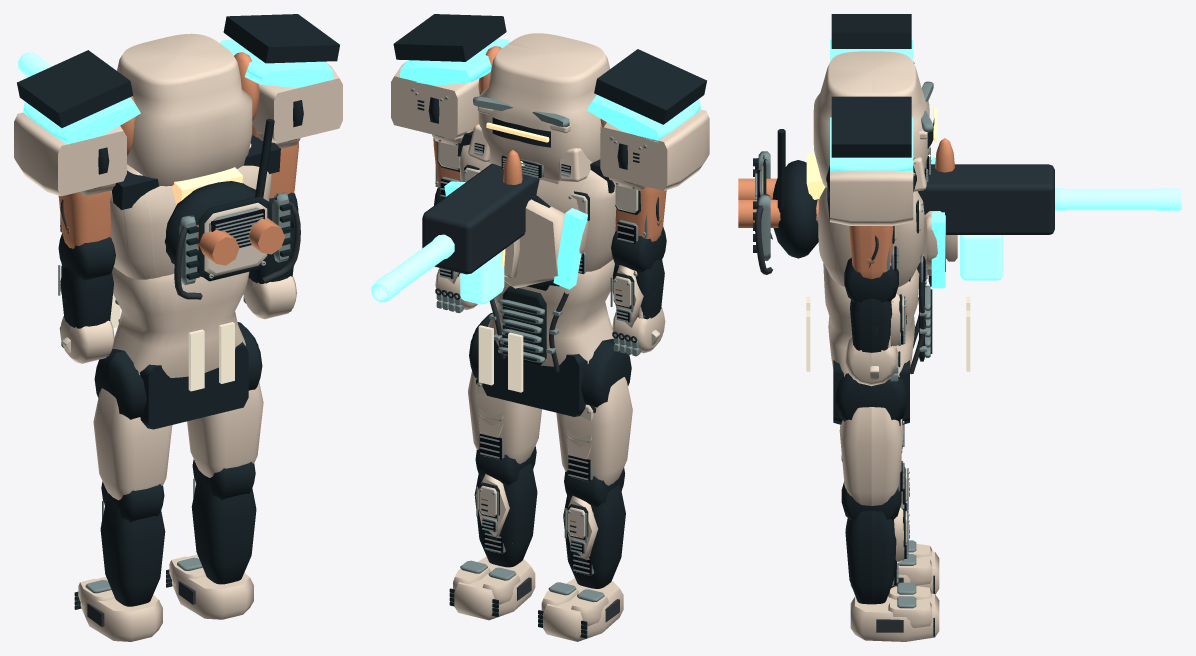
File: claude.glb
The picture shows the model from 3 angles, left to right: view 1: azimuth 30°, elevation 25°; view 2: azimuth 150°, elevation 25°; view 3: azimuth 270°, elevation 25°; orthographic projection. The views are drawn at different scales.
Visible parts, largest first — view 1: LOD3_Batch7, LOD3_Batch51, LOD1_Batch4, LOD3_Batch24, LOD3_Batch59, LOD7_Batch22, LOD3_Batch46, LOD3_Batch55, LOD3_Batch64, LOD3_Batch71, LOD7_Batch37, LOD3_Batch68 (+28 smaller); view 2: LOD3_Batch7, LOD3_Batch46, LOD7_Batch44, LOD3_Batch24, LOD3_Batch51, LOD7_Batch22, LOD3_Batch59, LOD3_Batch39, LOD7_Batch37, LOD3_Batch71, LOD1_Batch52, LOD7_Batch45 (+35 smaller); view 3: LOD7_Batch44, LOD3_Batch7, LOD3_Batch68, LOD7_Batch37, LOD7_Batch45, LOD3_Batch39, LOD3_Batch46, LOD3_Batch64, LOD3_Batch62, LOD3_Batch51, LOD7_Batch22, LOD3_Batch3 (+17 smaller).
Boxes of the visible parts, bbox=[...] form: LOD3_Batch7: bbox=[117, 33, 252, 186]; LOD3_Batch51: bbox=[112, 267, 249, 377]; LOD1_Batch4: bbox=[174, 192, 300, 299]; LOD3_Batch24: bbox=[14, 112, 126, 196]; LOD3_Batch59: bbox=[93, 388, 172, 500]; LOD7_Batch22: bbox=[17, 50, 133, 127]; LOD3_Batch46: bbox=[110, 143, 271, 279]; LOD3_Batch55: bbox=[100, 499, 165, 606]; LOD3_Batch64: bbox=[191, 477, 256, 584]; LOD3_Batch71: bbox=[140, 342, 248, 429]; LOD7_Batch37: bbox=[223, 14, 339, 63]; LOD3_Batch68: bbox=[187, 382, 263, 477]; LOD3_Batch7: bbox=[468, 33, 609, 184]; LOD3_Batch46: bbox=[459, 144, 616, 288]; LOD7_Batch44: bbox=[422, 163, 539, 274]; LOD3_Batch24: bbox=[600, 109, 709, 190]; LOD3_Batch51: bbox=[487, 259, 614, 366]; LOD7_Batch22: bbox=[594, 49, 706, 124]; LOD3_Batch59: bbox=[556, 377, 632, 485]; LOD3_Batch39: bbox=[391, 61, 479, 139]; LOD7_Batch37: bbox=[393, 14, 506, 61]; LOD3_Batch71: bbox=[482, 340, 587, 416]; LOD1_Batch52: bbox=[489, 286, 568, 372]; LOD7_Batch45: bbox=[371, 234, 504, 304]; LOD7_Batch44: bbox=[917, 164, 1054, 280]; LOD3_Batch7: bbox=[813, 51, 929, 191]; LOD3_Batch68: bbox=[839, 407, 903, 505]; LOD7_Batch37: bbox=[831, 96, 911, 157]; LOD7_Batch45: bbox=[960, 188, 1181, 280]; LOD3_Batch39: bbox=[830, 170, 913, 225]; LOD3_Batch46: bbox=[818, 160, 957, 286]; LOD3_Batch64: bbox=[845, 511, 896, 604]; LOD3_Batch62: bbox=[850, 586, 939, 641]; LOD3_Batch51: bbox=[823, 263, 919, 376]; LOD7_Batch22: bbox=[831, 14, 911, 48]; LOD3_Batch3: bbox=[773, 160, 818, 257].
Size of the model in its own units: 0.9612 by 1.8 by 1.33.
